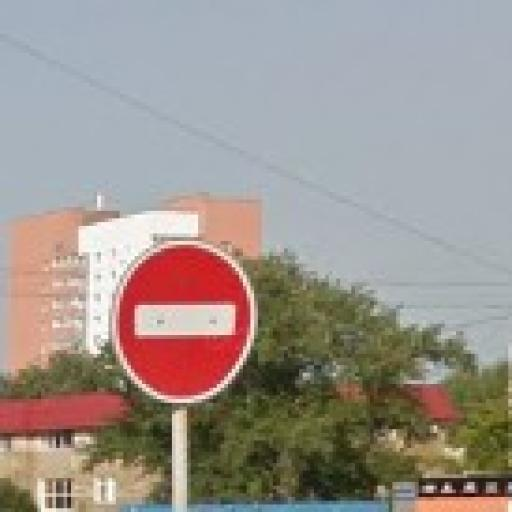traffic_sign: (109, 238, 259, 408)
